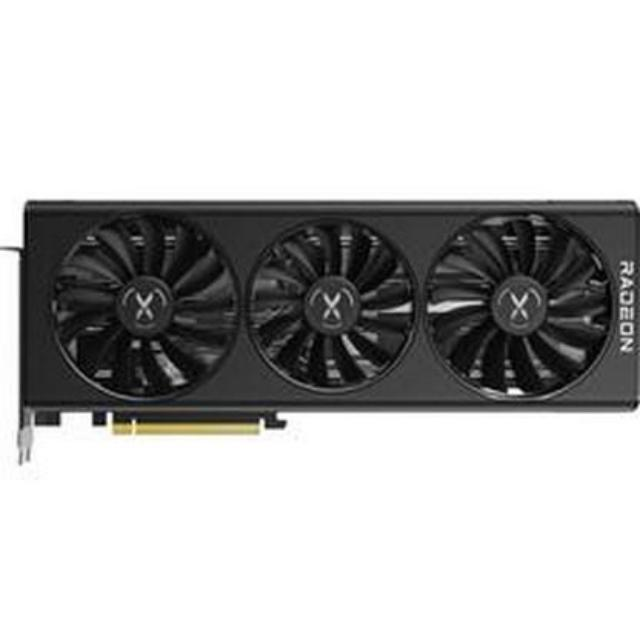GPU: (9, 187, 640, 438)
